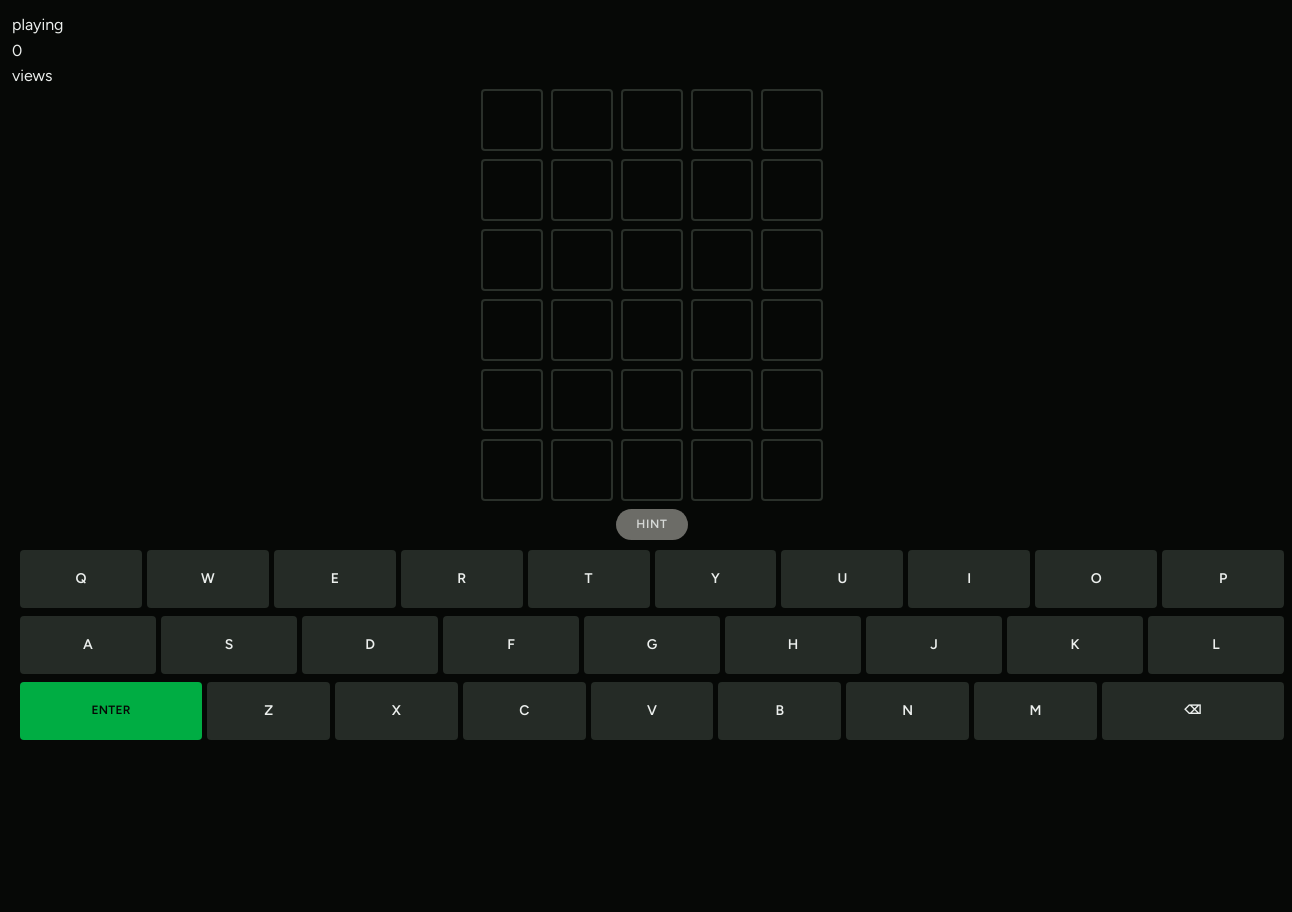
Scenario: Full game integration › typing letters updates currentInput
Click the button "C" at (524, 711), box left=463, top=682, right=586, bottom=740
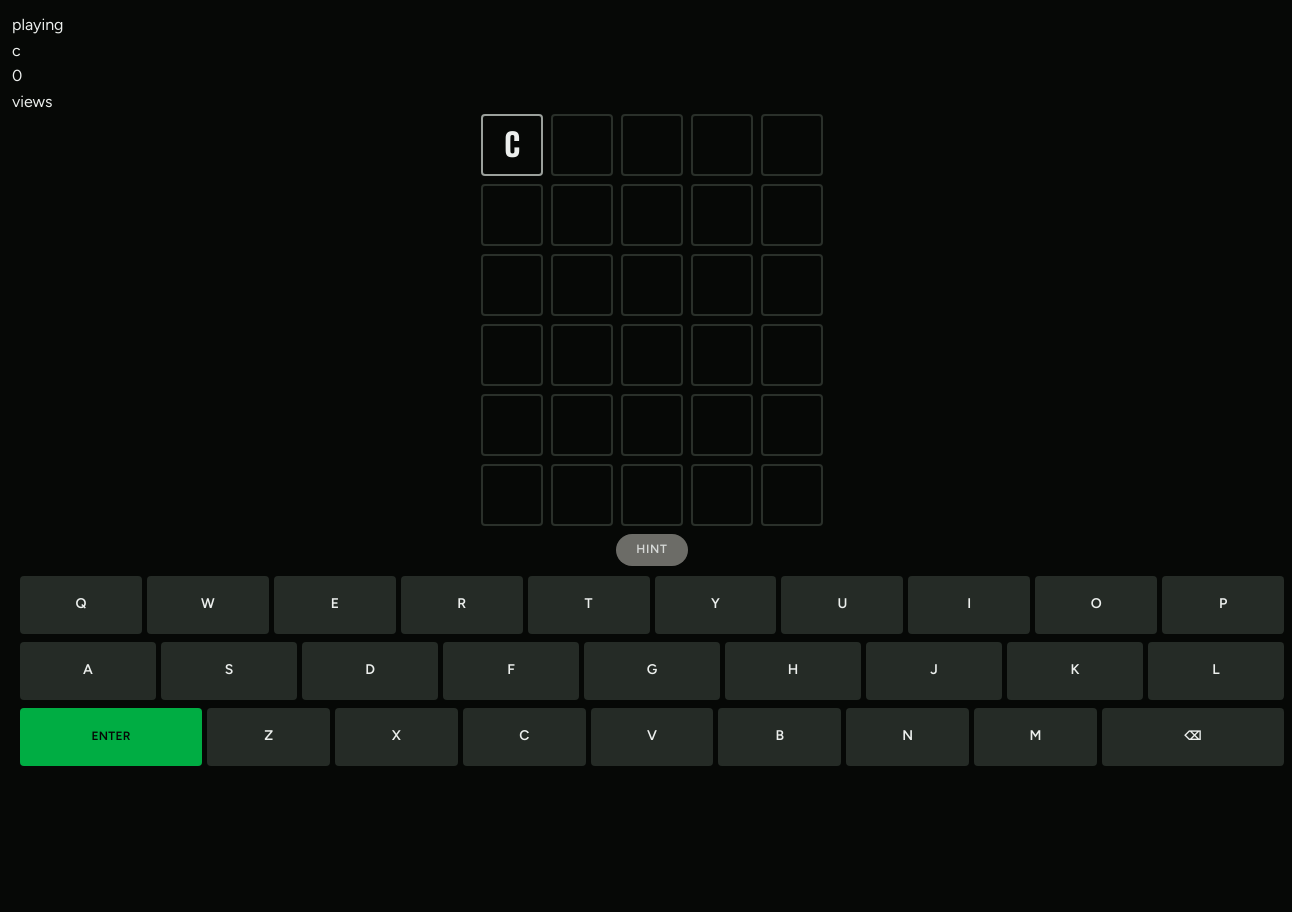
Click the button "R" at (462, 605), box left=401, top=576, right=523, bottom=634
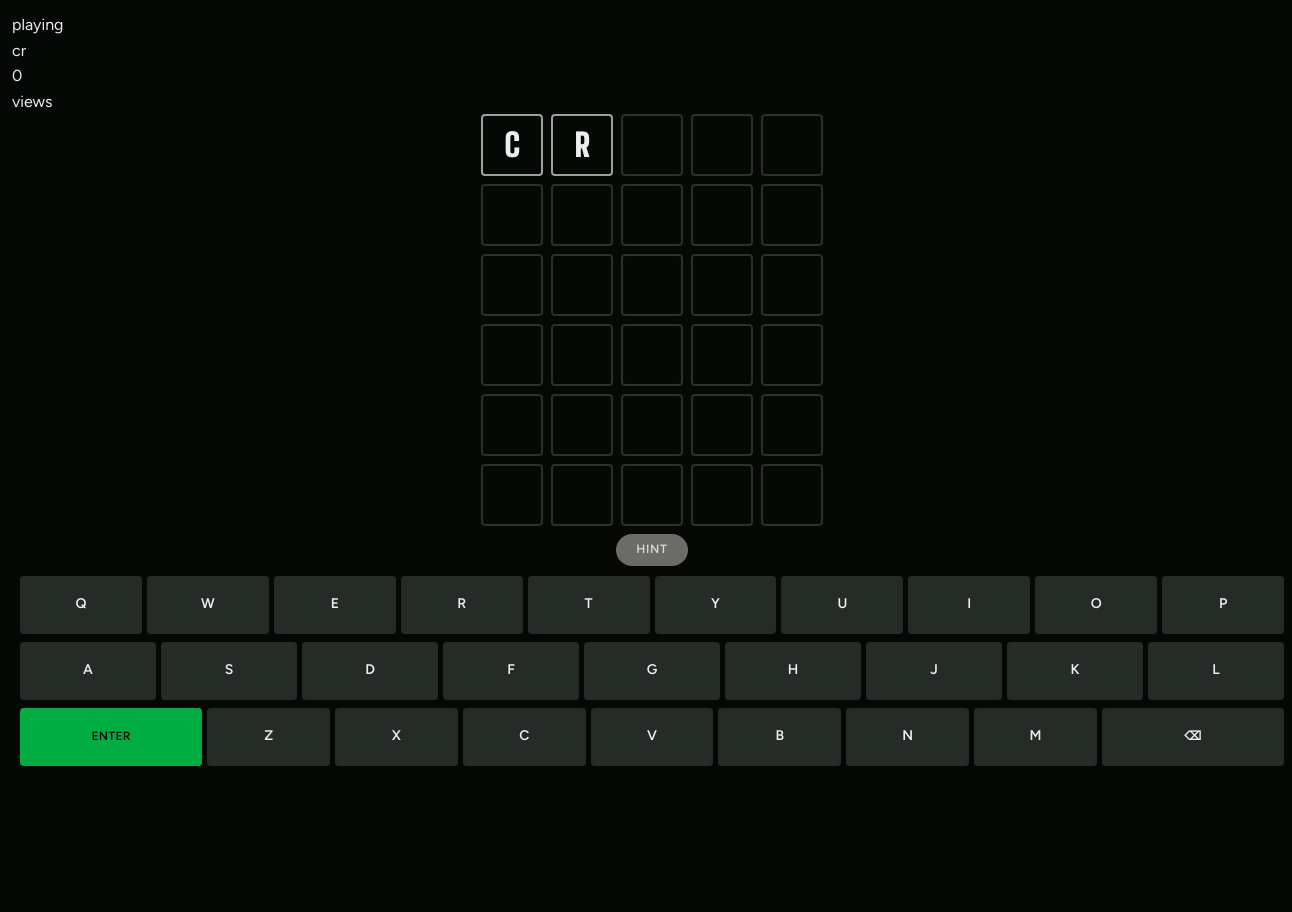
expect the text with test id "current-input" reads "cr": met, box left=12, top=41, right=26, bottom=60
